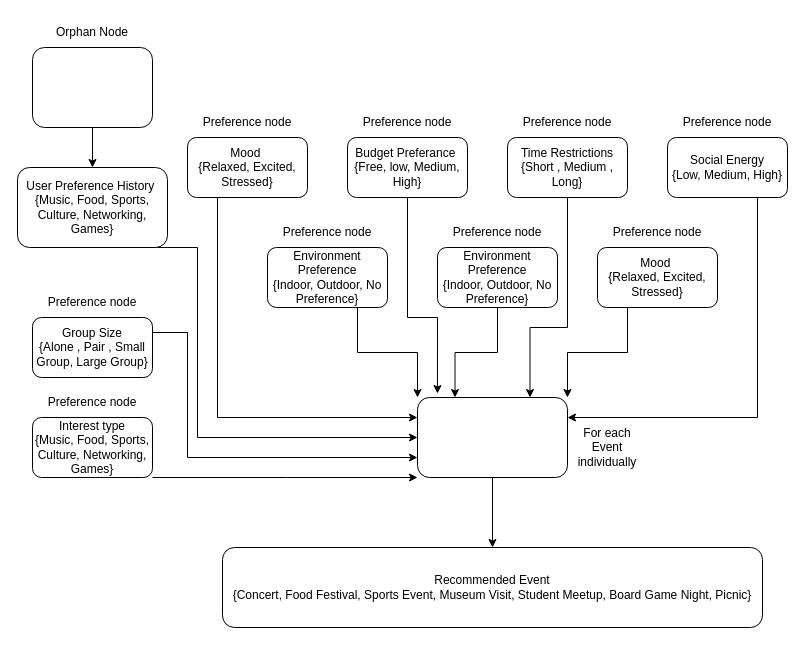
Some shapes in this 805 by 645 pixel diagram are drawn without their labels. The shapes that lost their labels are listed below. From the top down, each one's centre as x and y in pixels, then its label:
At [92,87]: "Recognized User {Known , Unknown}".
At [492,437]: "Event Score Matching {Low, Medium, High}".
